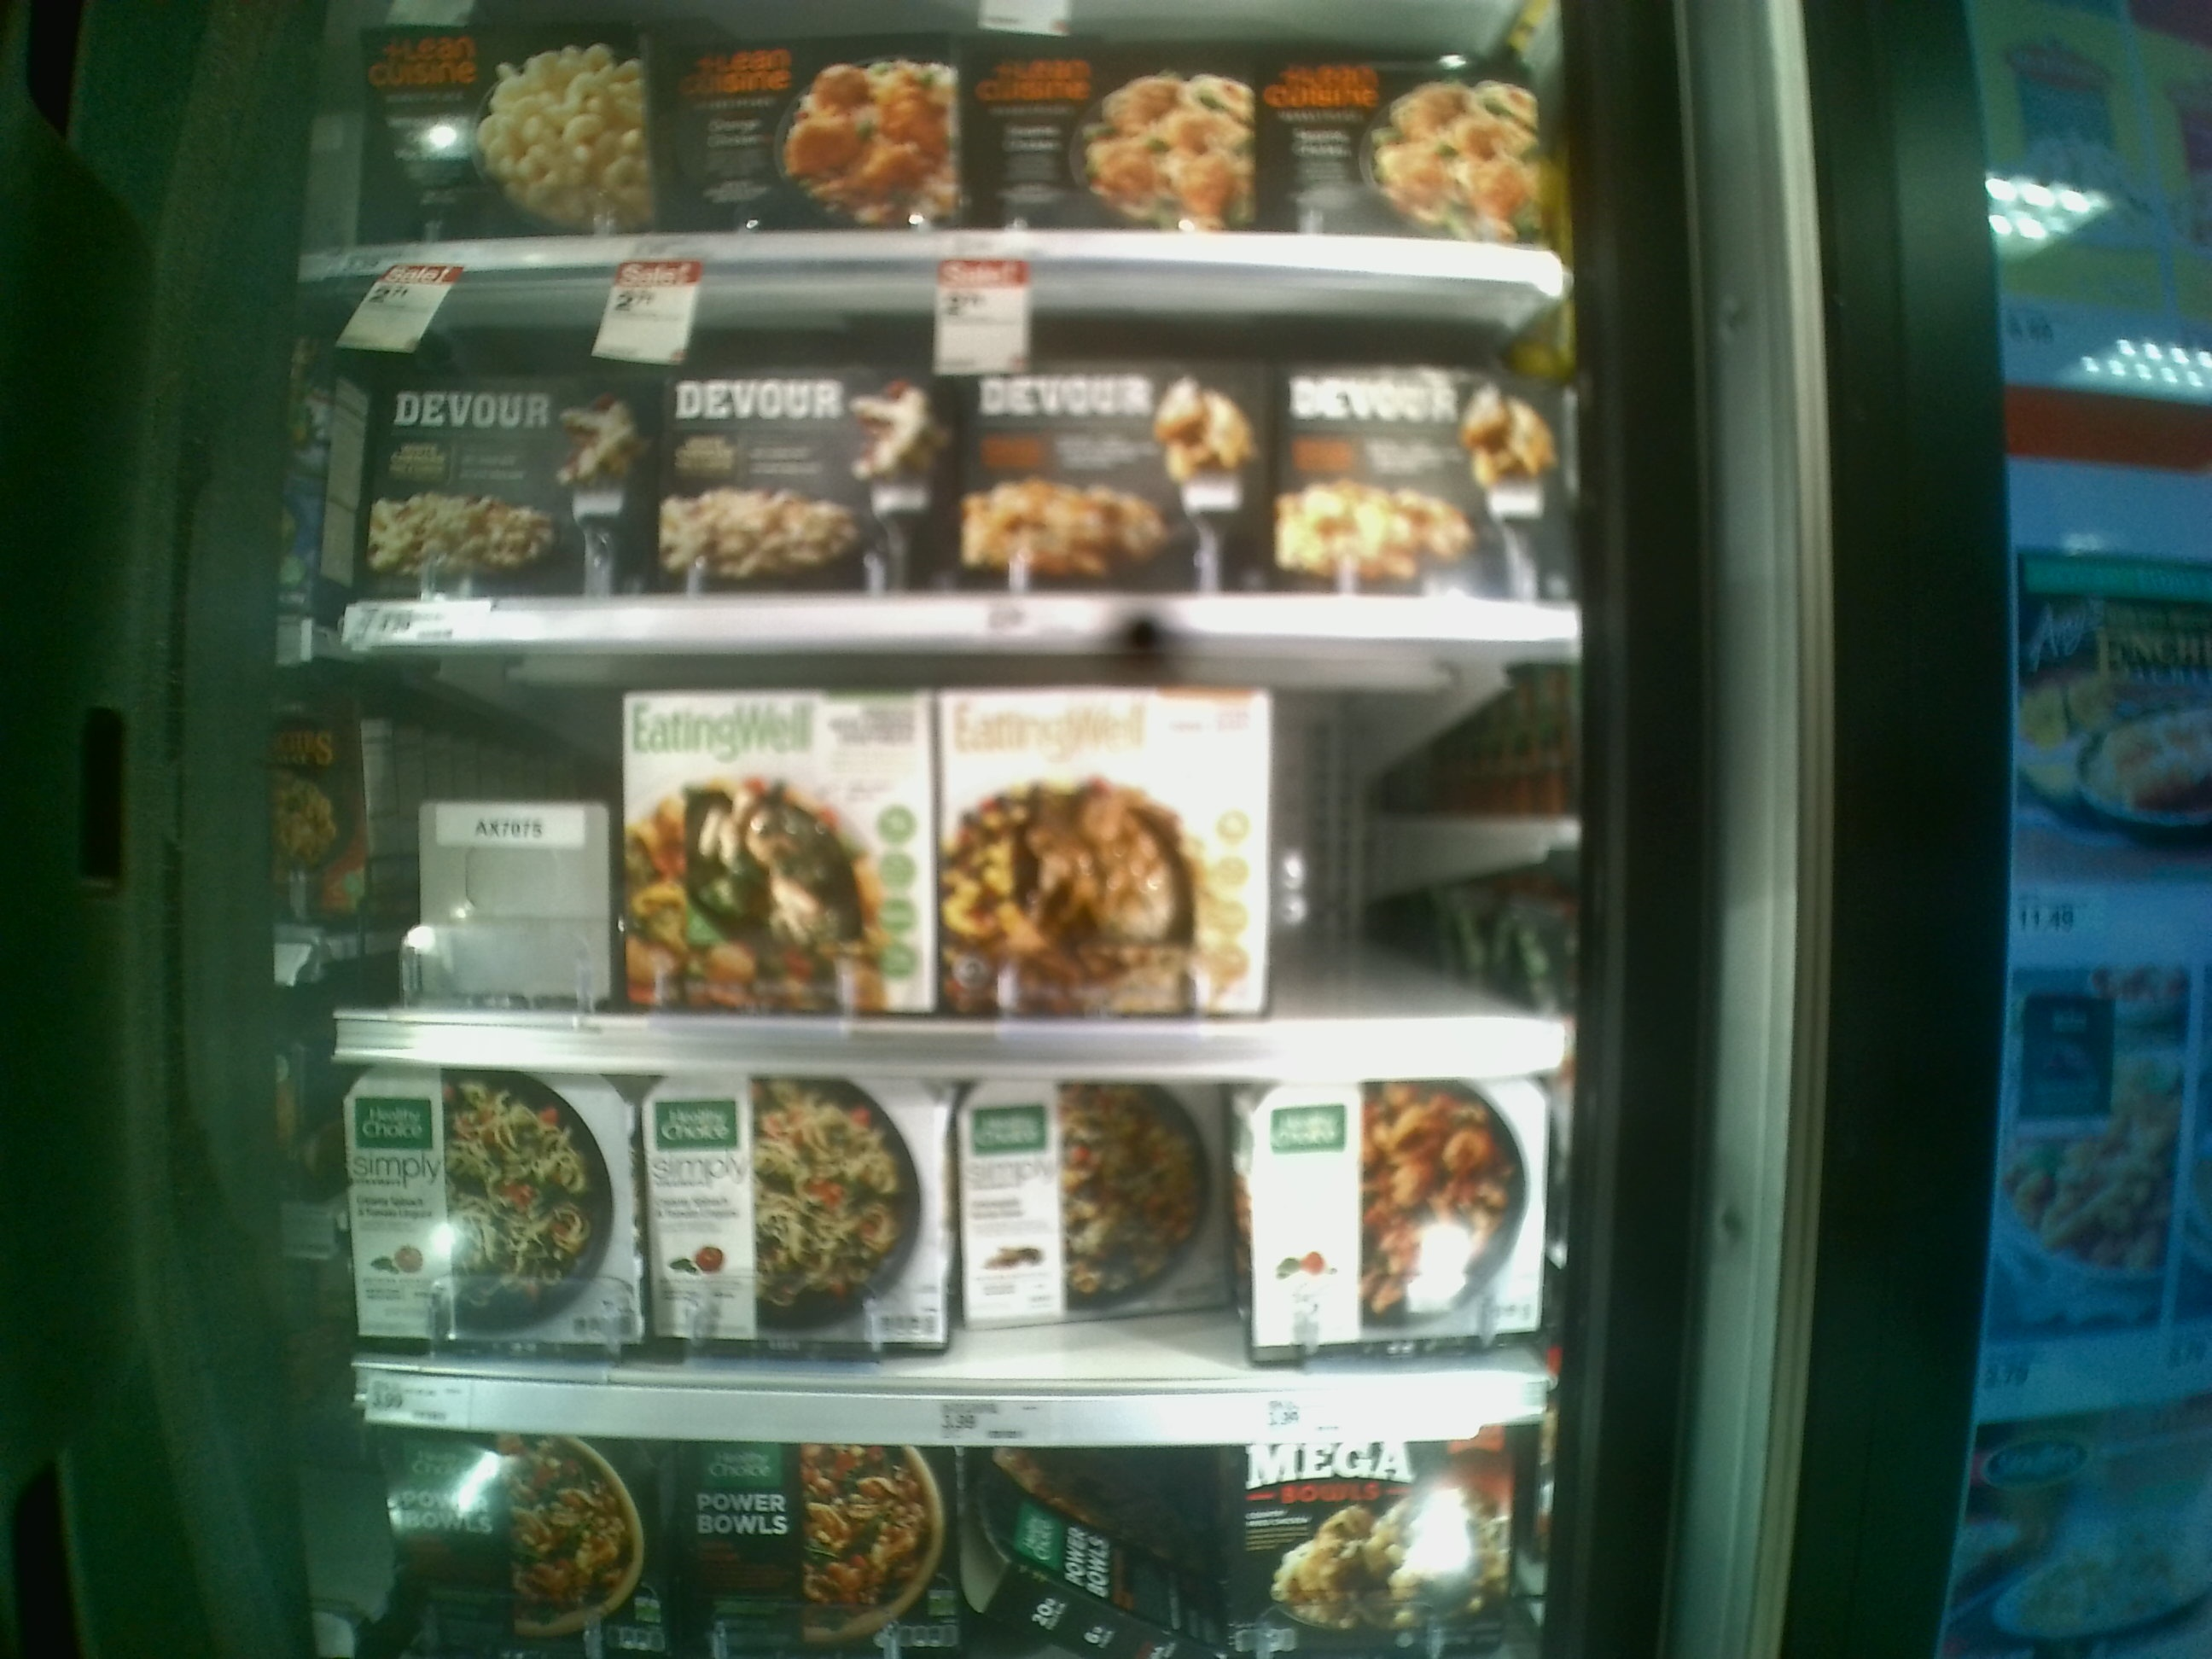shelf: (340, 1047, 1561, 1431), (350, 270, 1569, 648)
